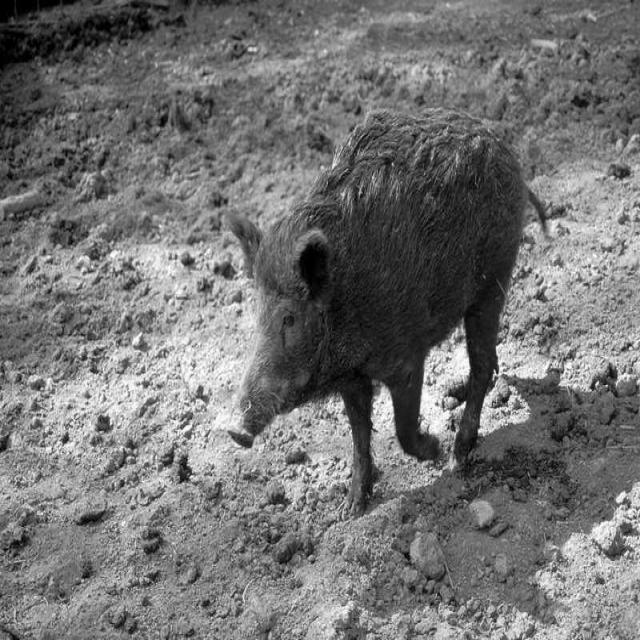boar: (230, 108, 542, 510)
